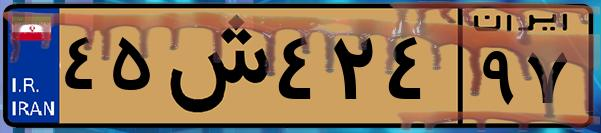2: (330, 28, 385, 110)
4: (270, 28, 330, 110), (385, 28, 445, 110), (57, 26, 110, 100)
5: (110, 28, 158, 98)
7: (525, 38, 570, 115)
9: (475, 38, 525, 113)
ش: (158, 12, 270, 120)
